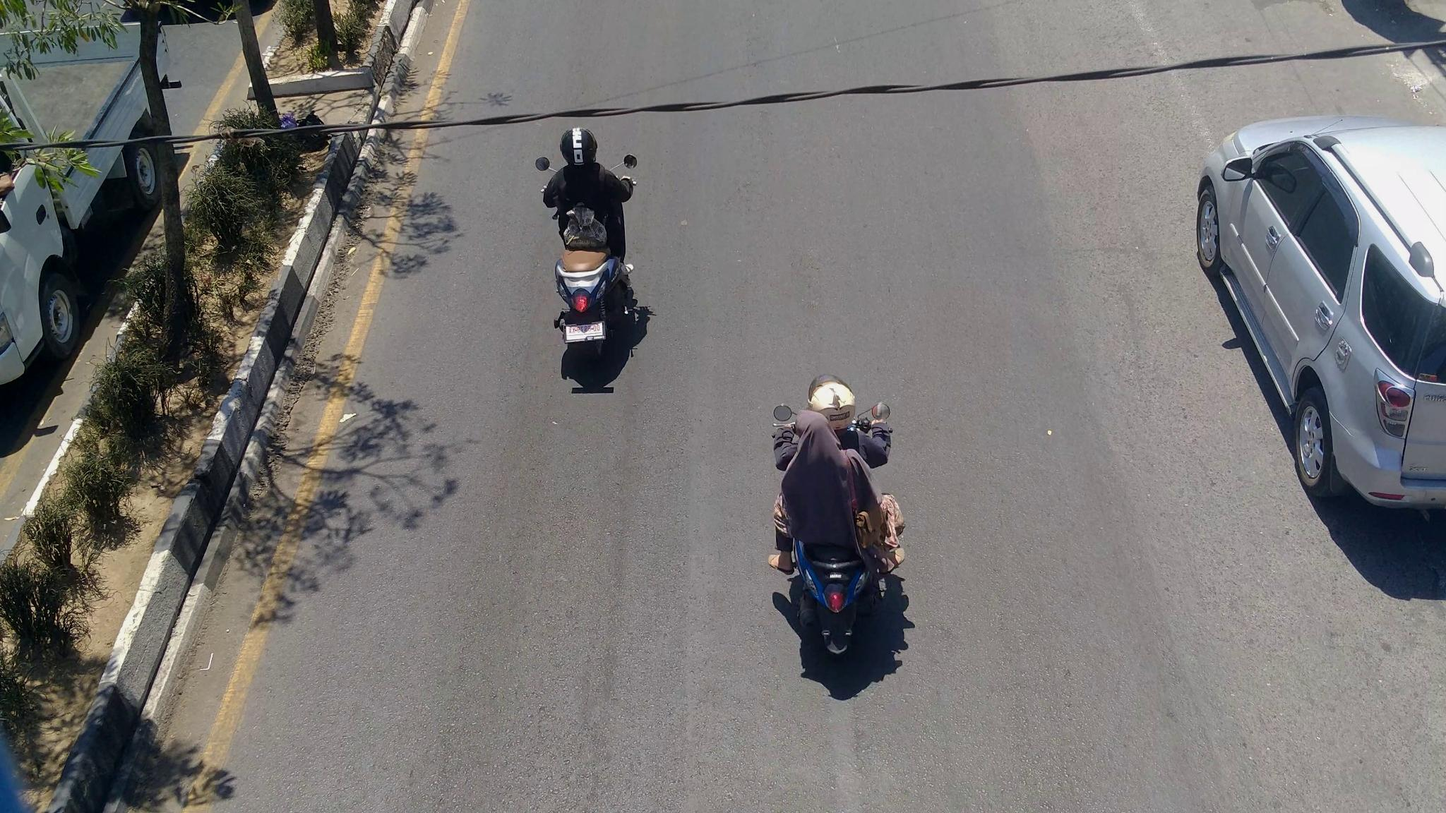Helmet: (799, 368, 867, 436), (556, 125, 603, 169)
bike: (766, 398, 894, 666), (531, 150, 642, 357)
no-helmet: (786, 404, 842, 465)
rider: (769, 406, 903, 576), (542, 125, 633, 262)
